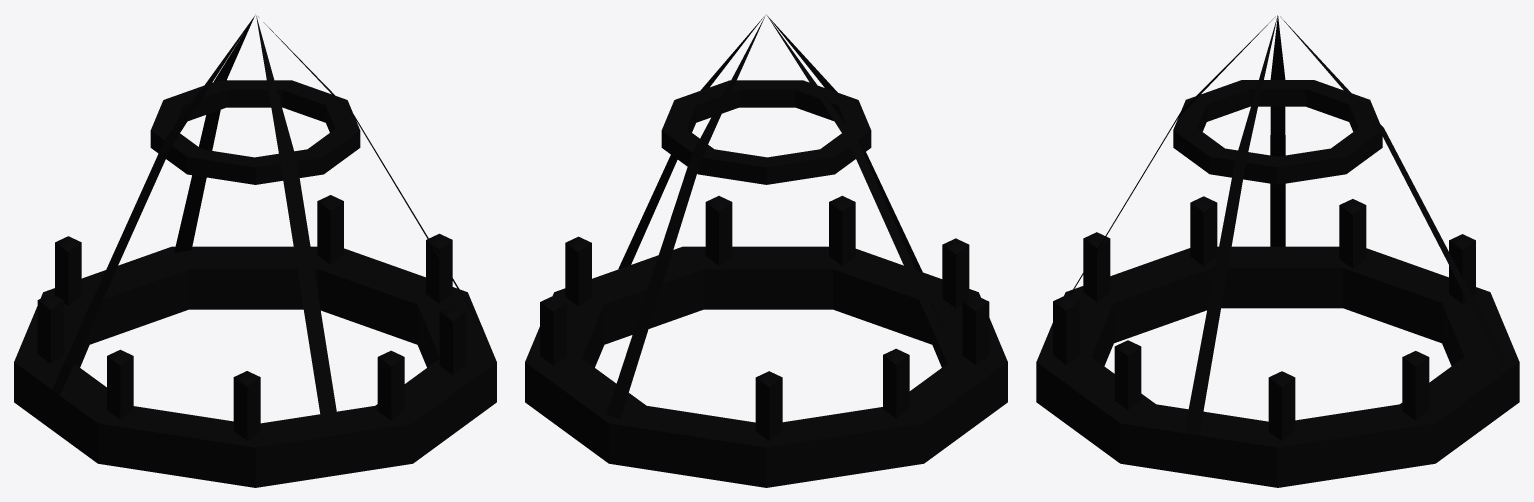
File: chandeleir.fbx
3 renders of one model, left to right at view 1: azimuth 30°, elevation 25°; view 2: azimuth 150°, elevation 25°; view 3: azimuth 270°, elevation 25°, orthographic.
Parts seen in each view (by area): view 1: pTorus3; view 2: pTorus3; view 3: pTorus3.
Part boxes in pixels (x1,y1,x2,y2): pTorus3: (14, 14, 496, 487); pTorus3: (525, 15, 1007, 487); pTorus3: (1036, 15, 1519, 487).
Bounding box in the file's own units: 2.63 × 2.26 × 2.67.
